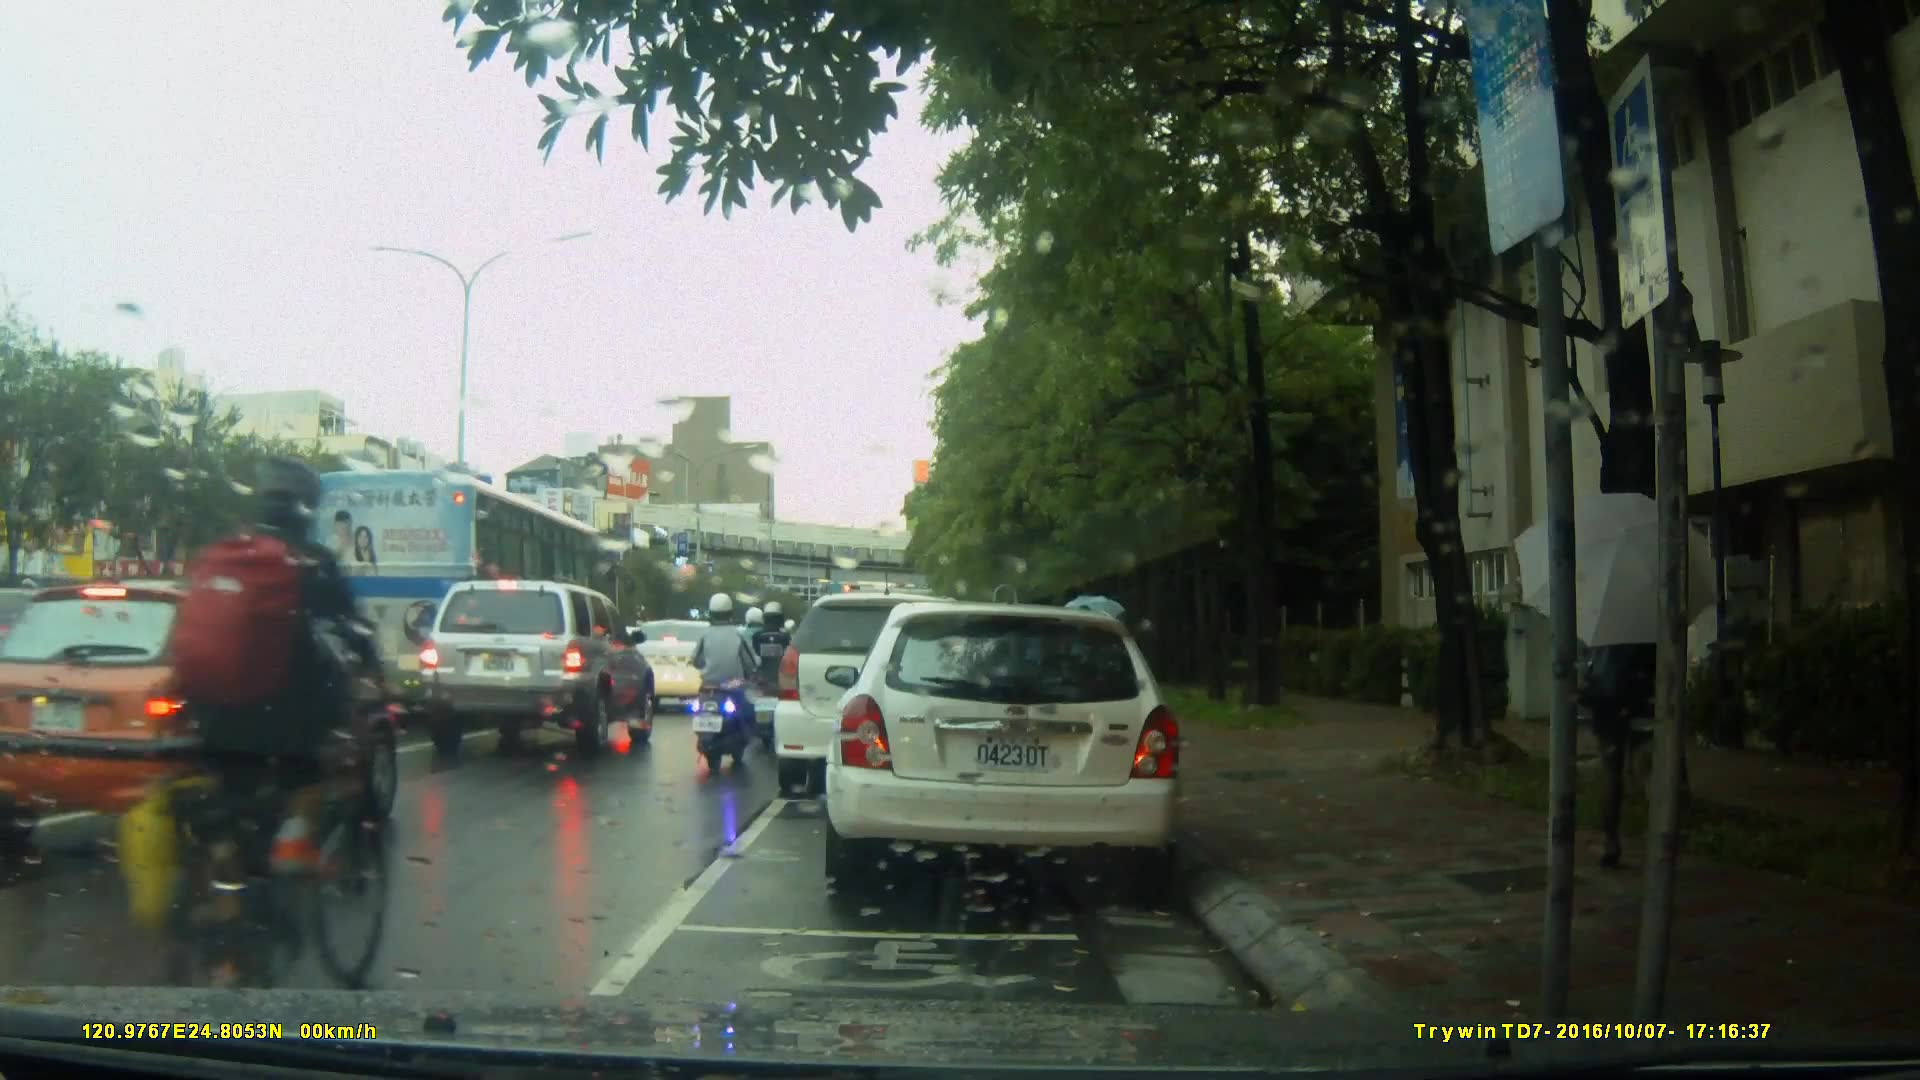pedestrian: (1591, 524, 1724, 887)
rider: (91, 460, 375, 1014), (687, 589, 758, 775), (746, 605, 804, 749), (732, 601, 780, 720)
vehicle: (6, 581, 394, 874), (835, 594, 1194, 898), (299, 469, 618, 739), (776, 590, 1026, 784), (412, 577, 659, 754)
